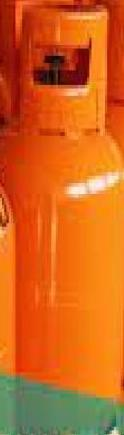cylinder: (0, 1, 124, 435)
